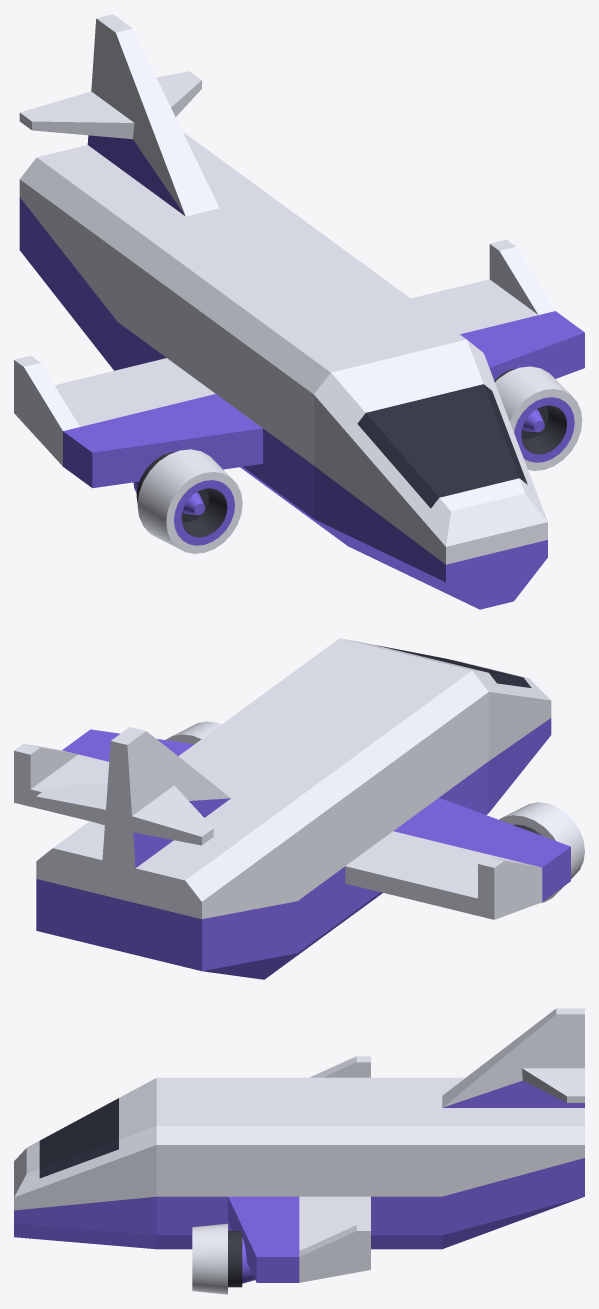
The model's file is Airplane.fbx.
3 views of the same model, one above another, from view 1: azimuth 30°, elevation 25°; view 2: azimuth 150°, elevation 25°; view 3: azimuth 270°, elevation 25° (orthographic). The views are drawn at different scales.
Visible parts, largest first — view 1: hull_body (×2), hull_cockpitPoint, wing_slantWingletHigh (×2), hull_slant, rudder_sides, engine_round (×2); view 2: hull_body (×2), hull_slant, wing_slantWingletHigh (×2), rudder_sides, hull_cockpitPoint, engine_round (×2); view 3: hull_body (×2), hull_cockpitPoint, hull_slant, wing_slantWingletHigh (×2), rudder_sides, engine_round.
Part boxes in pixels (x1=…): hull_body (×2): x1=117, y1=196, x2=466, y2=543; hull_cockpitPoint: x1=314, y1=339, x2=547, y2=609; wing_slantWingletHigh (×2): x1=14, y1=239, x2=584, y2=488; hull_slant: x1=19, y1=132, x2=270, y2=370; rudder_sides: x1=19, y1=14, x2=219, y2=216; engine_round (×2): x1=133, y1=366, x2=582, y2=553; hull_body (×2): x1=178, y1=638, x2=488, y2=978; hull_slant: x1=36, y1=798, x2=297, y2=979; wing_slantWingletHigh (×2): x1=14, y1=729, x2=570, y2=919; rudder_sides: x1=36, y1=727, x2=230, y2=868; hull_cockpitPoint: x1=341, y1=638, x2=551, y2=812; engine_round (×2): x1=166, y1=721, x2=584, y2=902; hull_body (×2): x1=156, y1=1077, x2=442, y2=1249; hull_cockpitPoint: x1=14, y1=1078, x2=156, y2=1249; hull_slant: x1=442, y1=1077, x2=584, y2=1248; wing_slantWingletHigh (×2): x1=228, y1=1056, x2=370, y2=1282; rudder_sides: x1=442, y1=1008, x2=584, y2=1107; engine_round: x1=192, y1=1223, x2=254, y2=1294.
Bounding box in the file's own units: 29 × 17 × 40.
